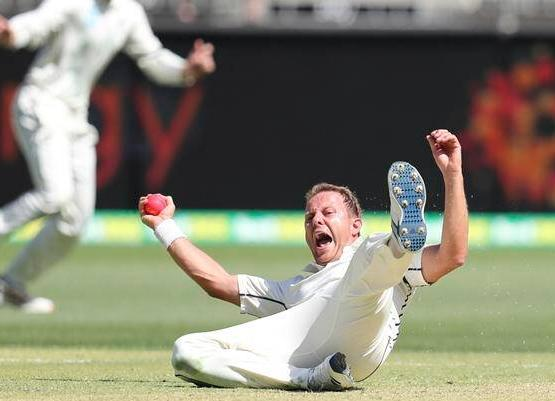Cricket-Ball: (142, 189, 169, 216)
